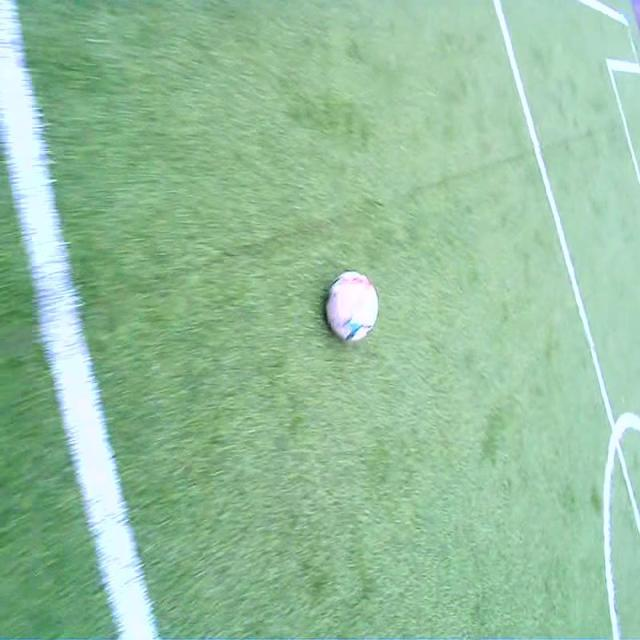ball: (326, 272, 378, 341)
